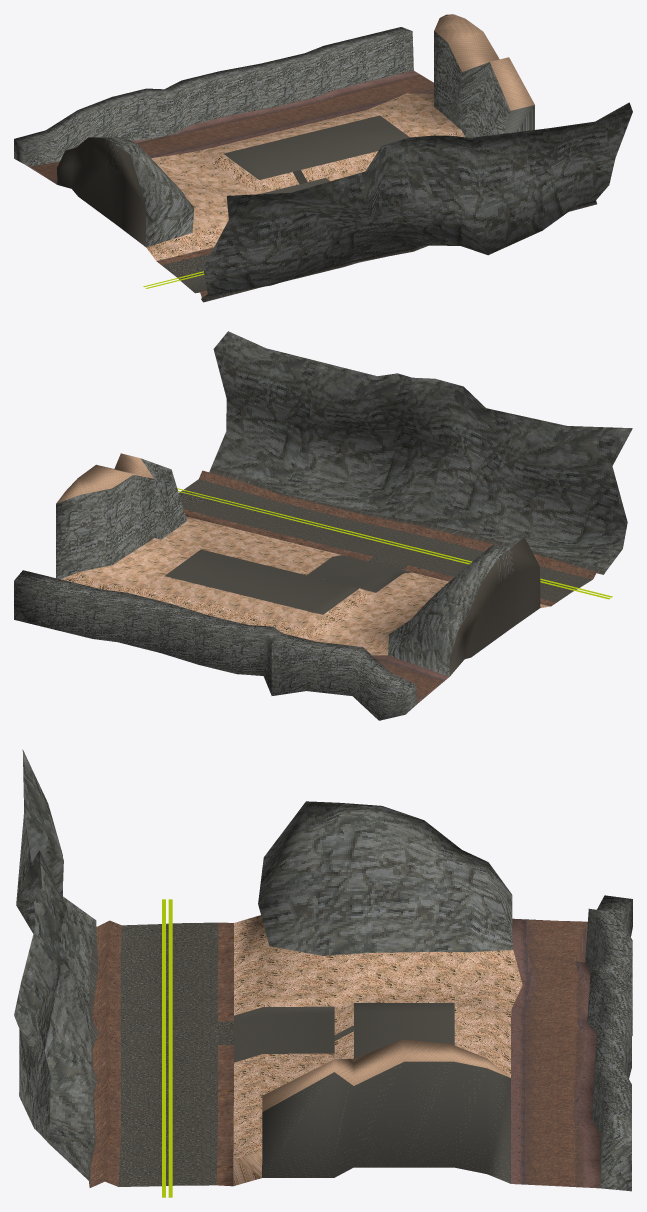
File: area1.glb
The picture shows the model from 3 angles, top to bottom: view 1: azimuth 30°, elevation 25°; view 2: azimuth 150°, elevation 25°; view 3: azimuth 270°, elevation 25°; orthographic projection. The views are drawn at different scales.
Visible parts, largest first — view 1: terrain; view 2: terrain; view 3: terrain.
Part boxes in pixels (x1,y1,x2,y2): terrain: (14, 14, 632, 302); terrain: (14, 331, 632, 720); terrain: (14, 749, 632, 1197).
Size of the model in its own units: 219 by 69.29 by 190.
9 materials, 9 textured.
